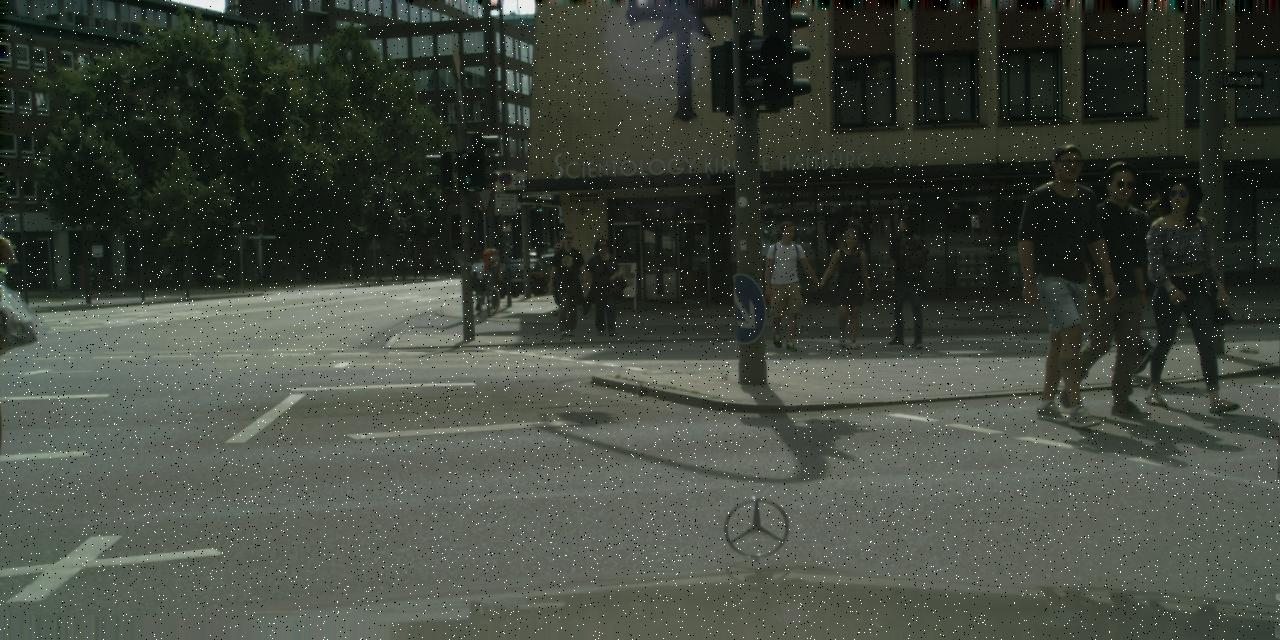ped: (1011, 142, 1126, 422), (1057, 160, 1160, 411), (1135, 174, 1231, 409), (1086, 179, 1166, 375), (1074, 172, 1154, 368), (880, 213, 935, 347), (760, 220, 812, 349), (825, 228, 874, 349), (546, 230, 588, 336), (584, 237, 623, 334), (547, 242, 575, 312), (549, 249, 575, 315), (535, 240, 550, 258), (424, 256, 431, 276), (378, 256, 384, 276), (413, 256, 420, 273), (432, 255, 439, 272)
